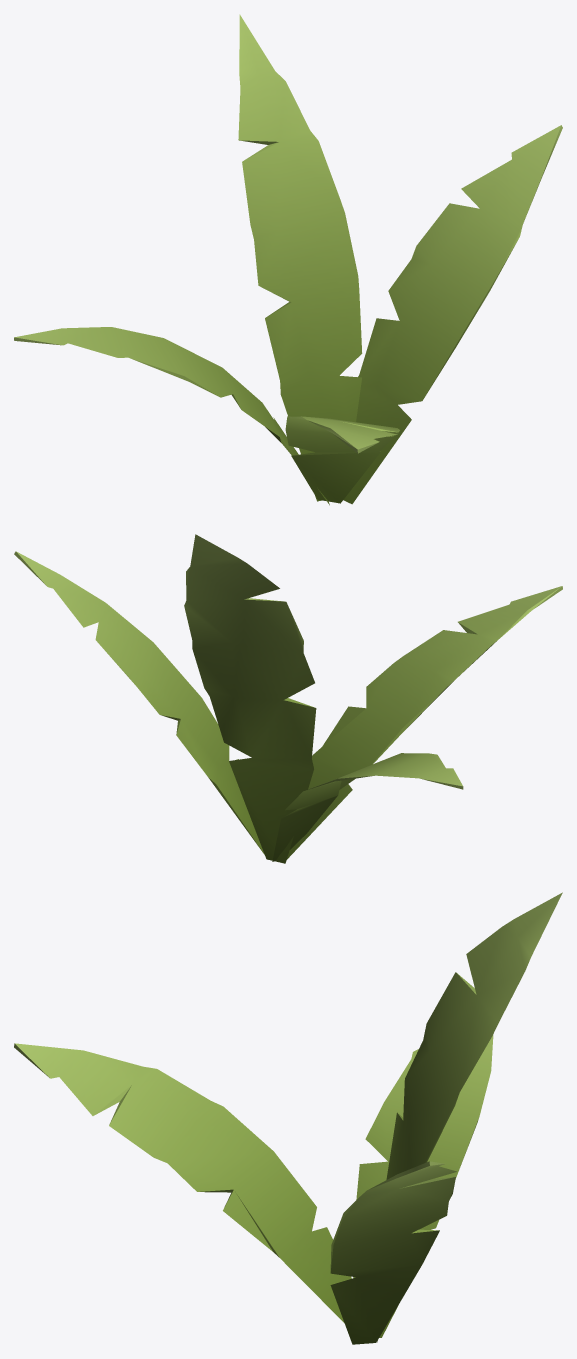
Rendered from Plant_07.glb.
3 renders of one model, top to bottom at view 1: azimuth 30°, elevation 25°; view 2: azimuth 150°, elevation 25°; view 3: azimuth 270°, elevation 25°, orthographic. The views are drawn at different scales.
Visible parts, largest first — view 1: Plant_07_LOD0; view 2: Plant_07_LOD0; view 3: Plant_07_LOD0.
Part boxes in pixels (x1,y1,x2,y2): Plant_07_LOD0: [14, 14, 562, 505]; Plant_07_LOD0: [14, 534, 562, 863]; Plant_07_LOD0: [14, 892, 562, 1344].
Size of what is drawn, in the model's own units: 0.5776 by 0.4489 by 0.4995.
Materials: 1 (1 with a texture image).
